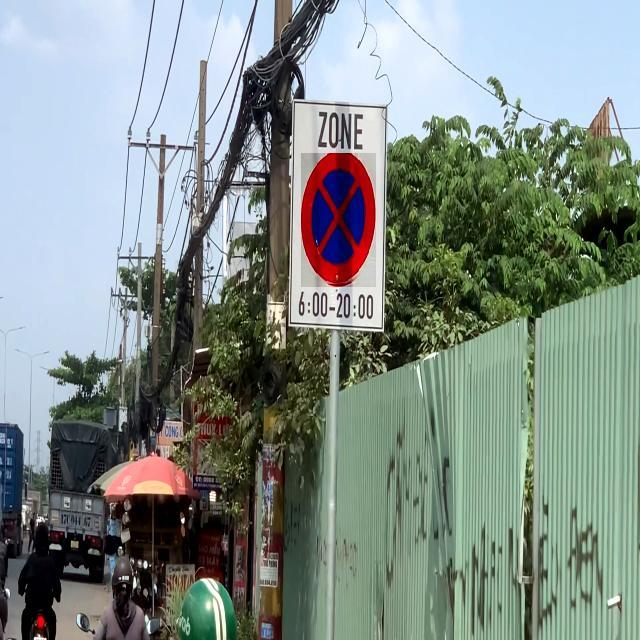P-130: (301, 153, 376, 287)
